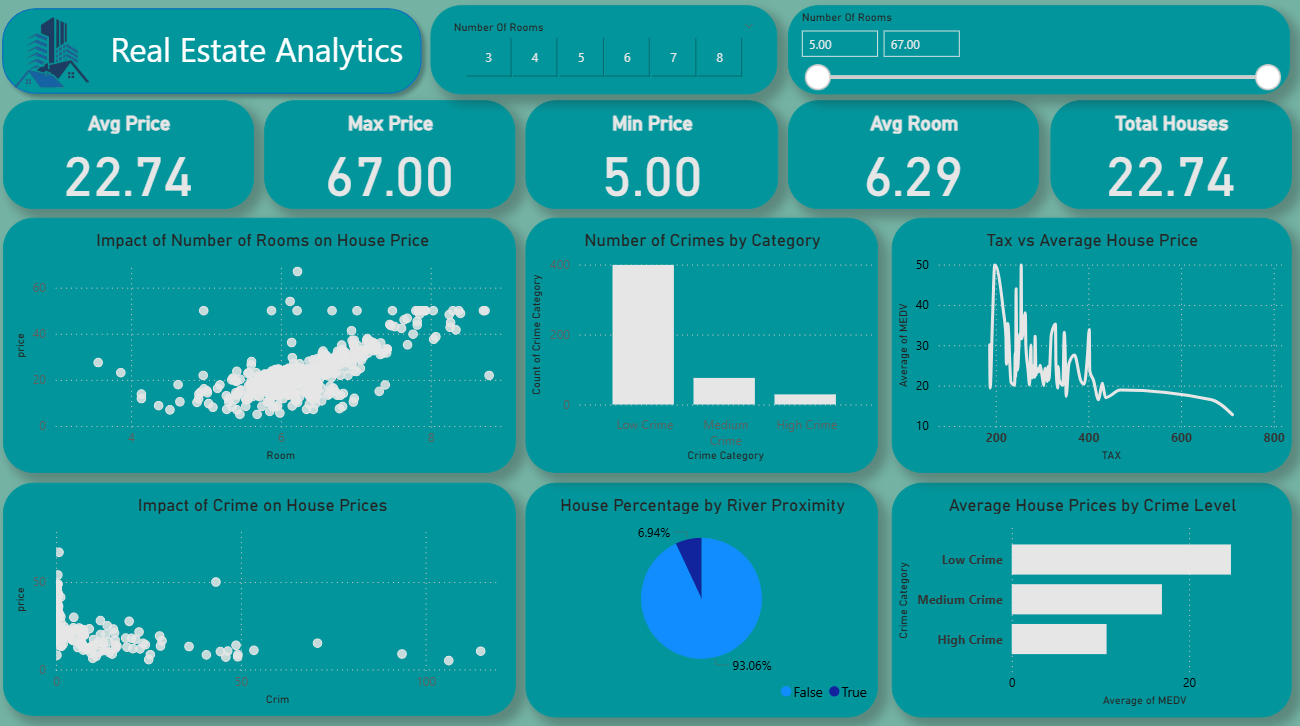

This screenshot's page, from the dashboard's own definition file:
{"tool":"powerbi","page":{"name":"Real Estate dashboard","canvas":[1280,720],"ordinal":0},"visuals":[{"type":"shape","box":[0,5,428.2,101.8],"z":0},{"type":"textbox","box":[109.7,27,326.6,70.8],"z":0,"group":"g1"},{"type":"group","id":"g1","title":"Group 1","box":[9.9,10.3,427.1,101.6],"z":1000},{"type":"image","box":[9.9,10.3,99.8,101.3],"z":1000,"group":"g1"},{"type":"card","title":"Avg Price","fields":{"Values":["vw_housing_clean.avg price"]},"box":[9.9,104.3,245.8,106.8],"z":2000},{"type":"card","title":"Max Price","fields":{"Values":["vw_housing_clean.MAX PRICE"]},"box":[265.6,104.3,245.8,106.8],"z":3000},{"type":"card","title":"Min Price","fields":{"Values":["vw_housing_clean.MIN PRICE"]},"box":[521.3,104.3,247,106.8],"z":4000},{"type":"card","title":"Avg Room","fields":{"Values":["vw_housing_clean.AVG ROOM"]},"box":[778.3,104.3,245.8,106.8],"z":5000},{"type":"card","title":"Total Houses","fields":{"Values":["vw_housing_clean.avg price"]},"box":[1034,104.3,235.8,106.8],"z":6000},{"type":"scatterChart","title":"Impact of Number of Rooms on House Price","fields":{"X":["vw_housing_clean.RM"],"Y":["vw_housing_clean.MEDV"]},"box":[9.9,218.5,501.5,249.5],"z":7000},{"type":"scatterChart","title":"Impact of Crime on House Prices","fields":{"Y":["vw_housing_clean.MEDV"],"X":["Sum(vw_housing_clean.CRIM)"]},"box":[9.9,477.9,501.5,228.4],"z":8000},{"type":"pieChart","title":"House Percentage by River Proximity","fields":{"Category":["vw_housing_clean.CHAS"],"Y":["CountNonNull(vw_housing_clean.CHAS)"]},"box":[521.3,477.9,345.1,229.6],"z":9000},{"type":"columnChart","title":"Number of Crimes by Category","fields":{"Category":["vw_housing_clean.Crime Category"],"Y":["CountNonNull(vw_housing_clean.Crime Category)"]},"box":[521.3,218.5,345.1,249.5],"z":10000},{"type":"barChart","title":"Average House Prices by Crime Level","fields":{"Category":["vw_housing_clean.Crime Category"],"Y":["Avg(vw_housing_clean.MEDV)"]},"box":[878.8,477.9,391,229.6],"z":11000},{"type":"lineChart","title":"Tax vs Average House Price","fields":{"Category":["vw_housing_clean.TAX"],"Y":["Avg(vw_housing_clean.MEDV)"]},"box":[878.8,218.5,391,249.5],"z":12000},{"type":"slicer","fields":{"Values":["vw_housing_clean.Rooms_Int"]},"box":[428.2,11.2,338.9,86.9],"z":13000},{"type":"slicer","fields":{"Values":["vw_housing_clean.MEDV"]},"box":[778.3,11.2,491.5,86.9],"z":14000}]}

Visuals, with their boxes in screenshot pixels (x1, y1, x2, y2), scaled from the page's 1280x720 canvas onto the 1300x726 screenshot:
shape: rect(0, 5, 435, 108)
textbox: rect(111, 27, 443, 99)
"Group 1" group: rect(10, 10, 444, 113)
image: rect(10, 10, 111, 113)
"Avg Price" card: rect(10, 105, 260, 213)
"Max Price" card: rect(270, 105, 519, 213)
"Min Price" card: rect(529, 105, 780, 213)
"Avg Room" card: rect(790, 105, 1040, 213)
"Total Houses" card: rect(1050, 105, 1290, 213)
"Impact of Number of Rooms on House Price" scatterChart: rect(10, 220, 519, 472)
"Impact of Crime on House Prices" scatterChart: rect(10, 482, 519, 712)
"House Percentage by River Proximity" pieChart: rect(529, 482, 880, 713)
"Number of Crimes by Category" columnChart: rect(529, 220, 880, 472)
"Average House Prices by Crime Level" barChart: rect(893, 482, 1290, 713)
"Tax vs Average House Price" lineChart: rect(893, 220, 1290, 472)
slicer - vw_housing_clean.Rooms_Int: rect(435, 11, 779, 99)
slicer - vw_housing_clean.MEDV: rect(790, 11, 1290, 99)
